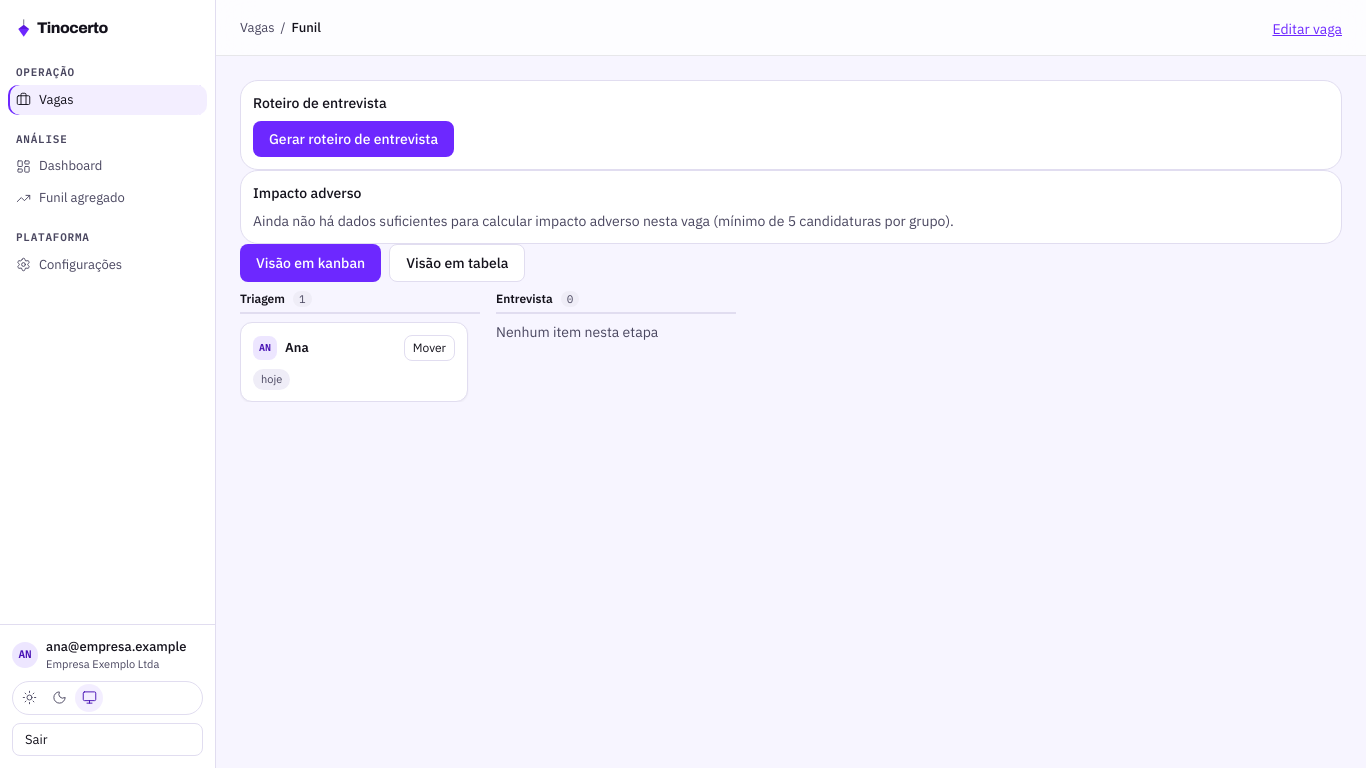
FunilPage › trocar a coluna de ordenação limpa a seleção da tabela (achado F1: a "Decisão: seleção é por página" existe pra evitar mover em lote candidatos que o recrutador
This screenshot has width=1366, height=768.
Expected: the link "Ana" is shown, [285,339,309,356]
What coordinates should you click on to do the following:
click the button "Visão em tabela"
I would click on:
 (457, 263)
Its box is [389,244,525,282].
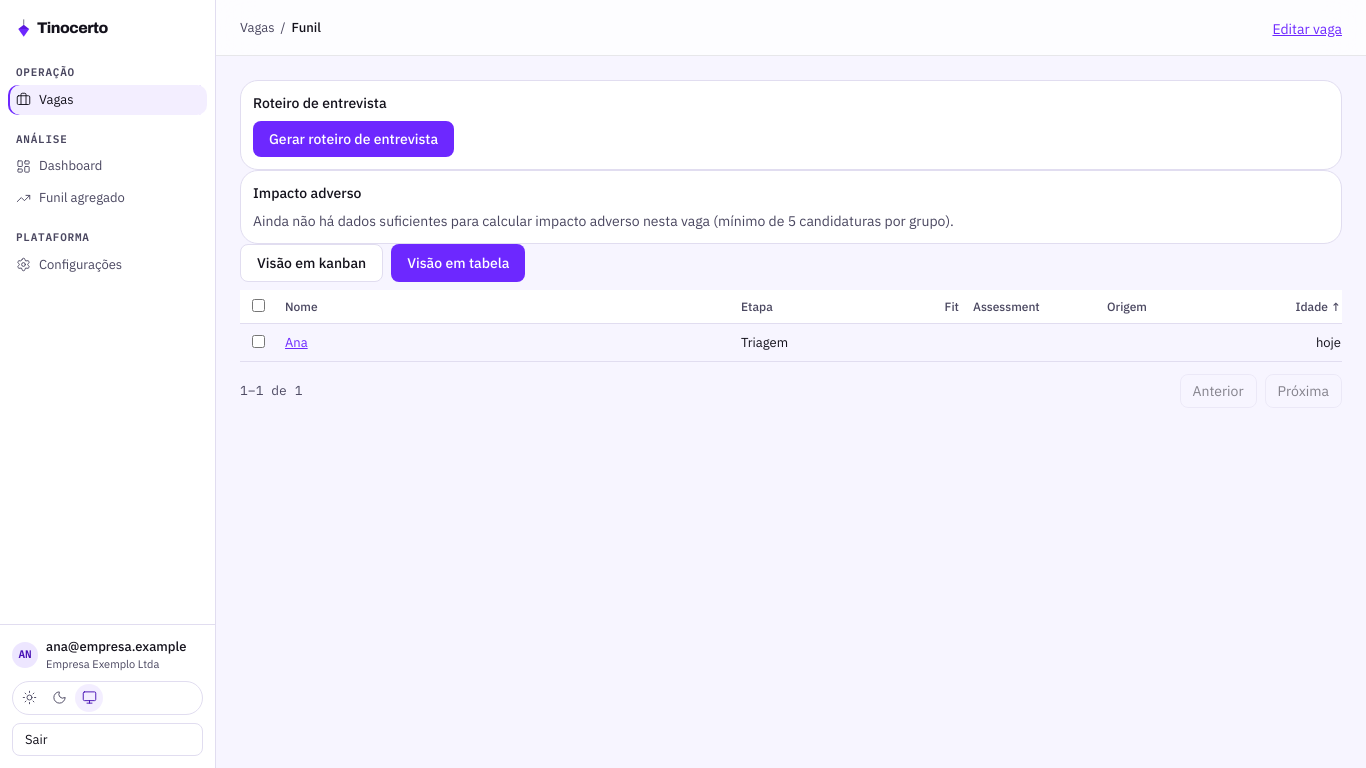
Now the table is shown, box [240,290,1342,362]
What coordinates should you click on to do the following:
click the checkbox named "Selecionar linha Ana"
I would click on:
 (258, 341)
Its box is [252,334,265,348].
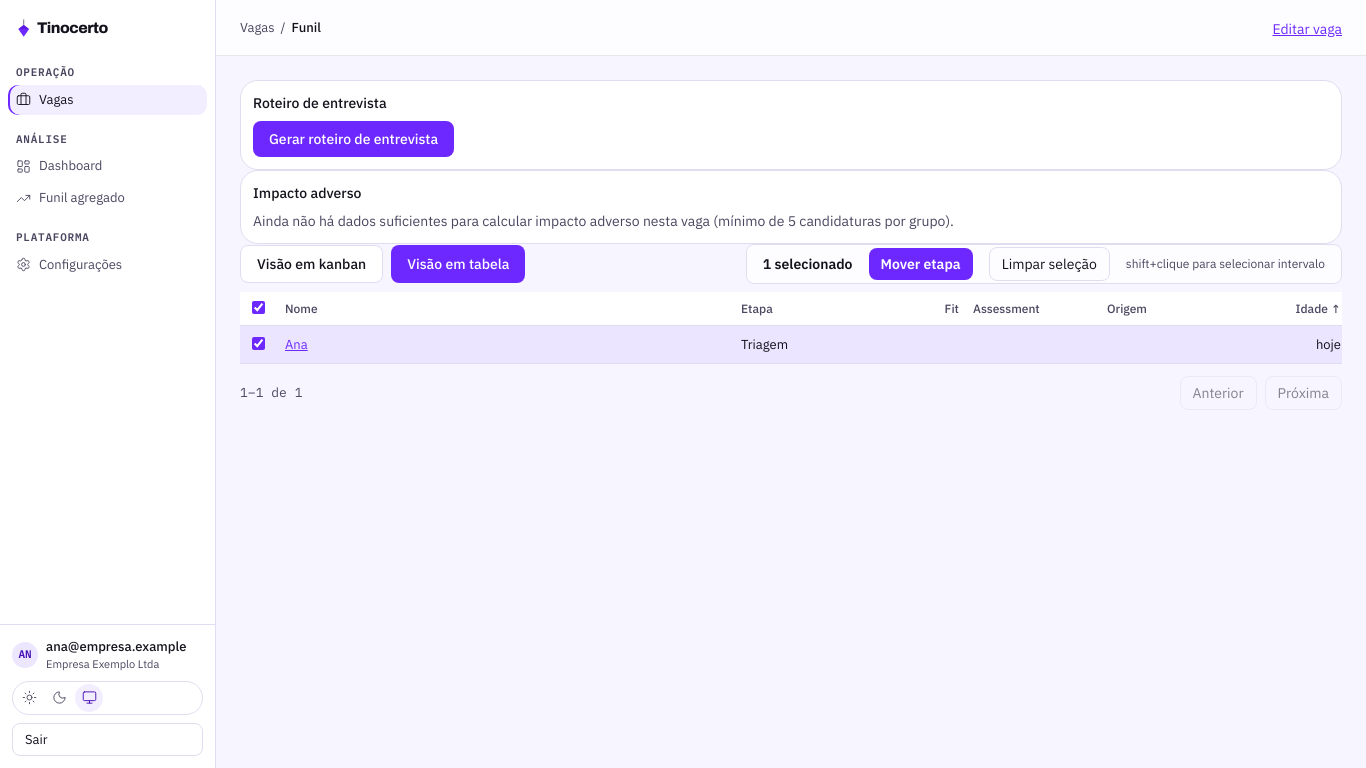
Now the text "1 selecionado" is shown, box [763,254,852,274]
Ordenação inicial é por idade -- clicar em "Nome" troca a coluna ativa.
What coordinates should you click on to do the following:
click the column heading "Nome"
I would click on:
 (301, 308)
Its box is [284,300,728,318].
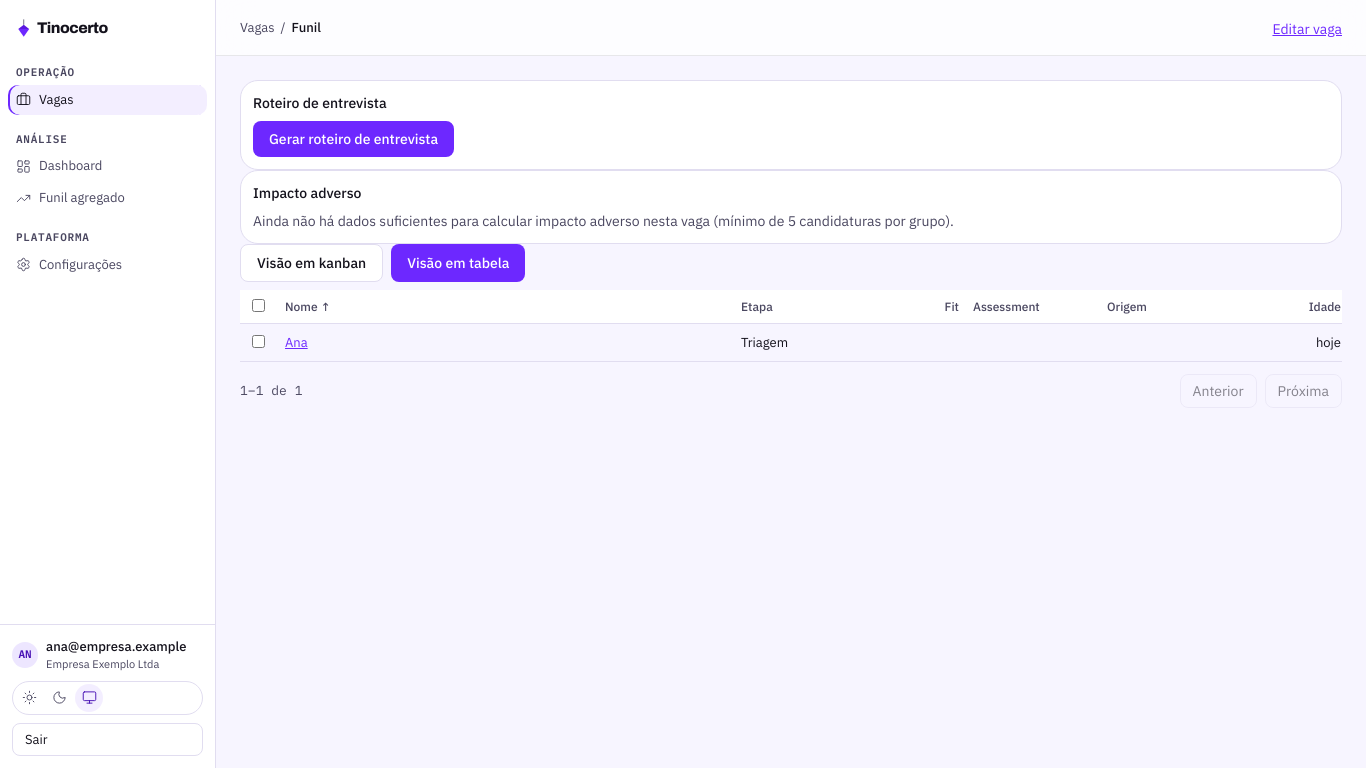
Now the text "1 selecionado" is gone
